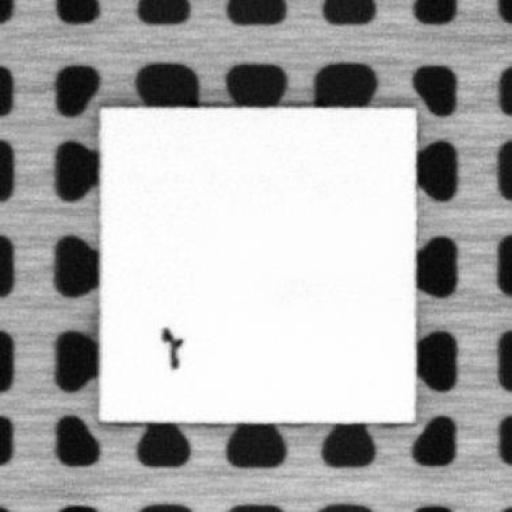DIE_INK: (158, 322, 182, 372)
